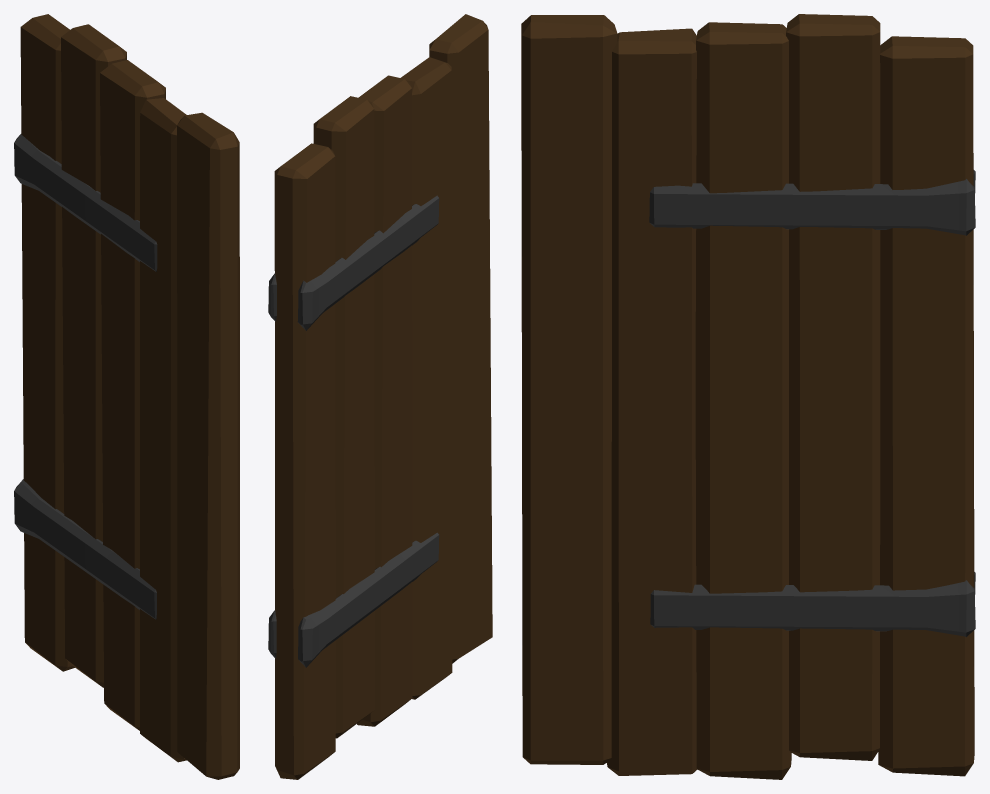
The model's file is 3D_BUILD_DOOR.FBX.
The picture shows the model from 3 angles, left to right: view 1: azimuth 30°, elevation 25°; view 2: azimuth 150°, elevation 25°; view 3: azimuth 270°, elevation 25°; orthographic projection. The views are drawn at different scales.
Parts seen in each view (by area): view 1: Door; view 2: Door; view 3: Door.
Part boxes in pixels (x1=…): Door: x1=14, y1=14, x2=239, y2=779; Door: x1=268, y1=14, x2=492, y2=779; Door: x1=521, y1=14, x2=975, y2=779.
Size of the model in its own units: 19.44 by 264 by 144.
